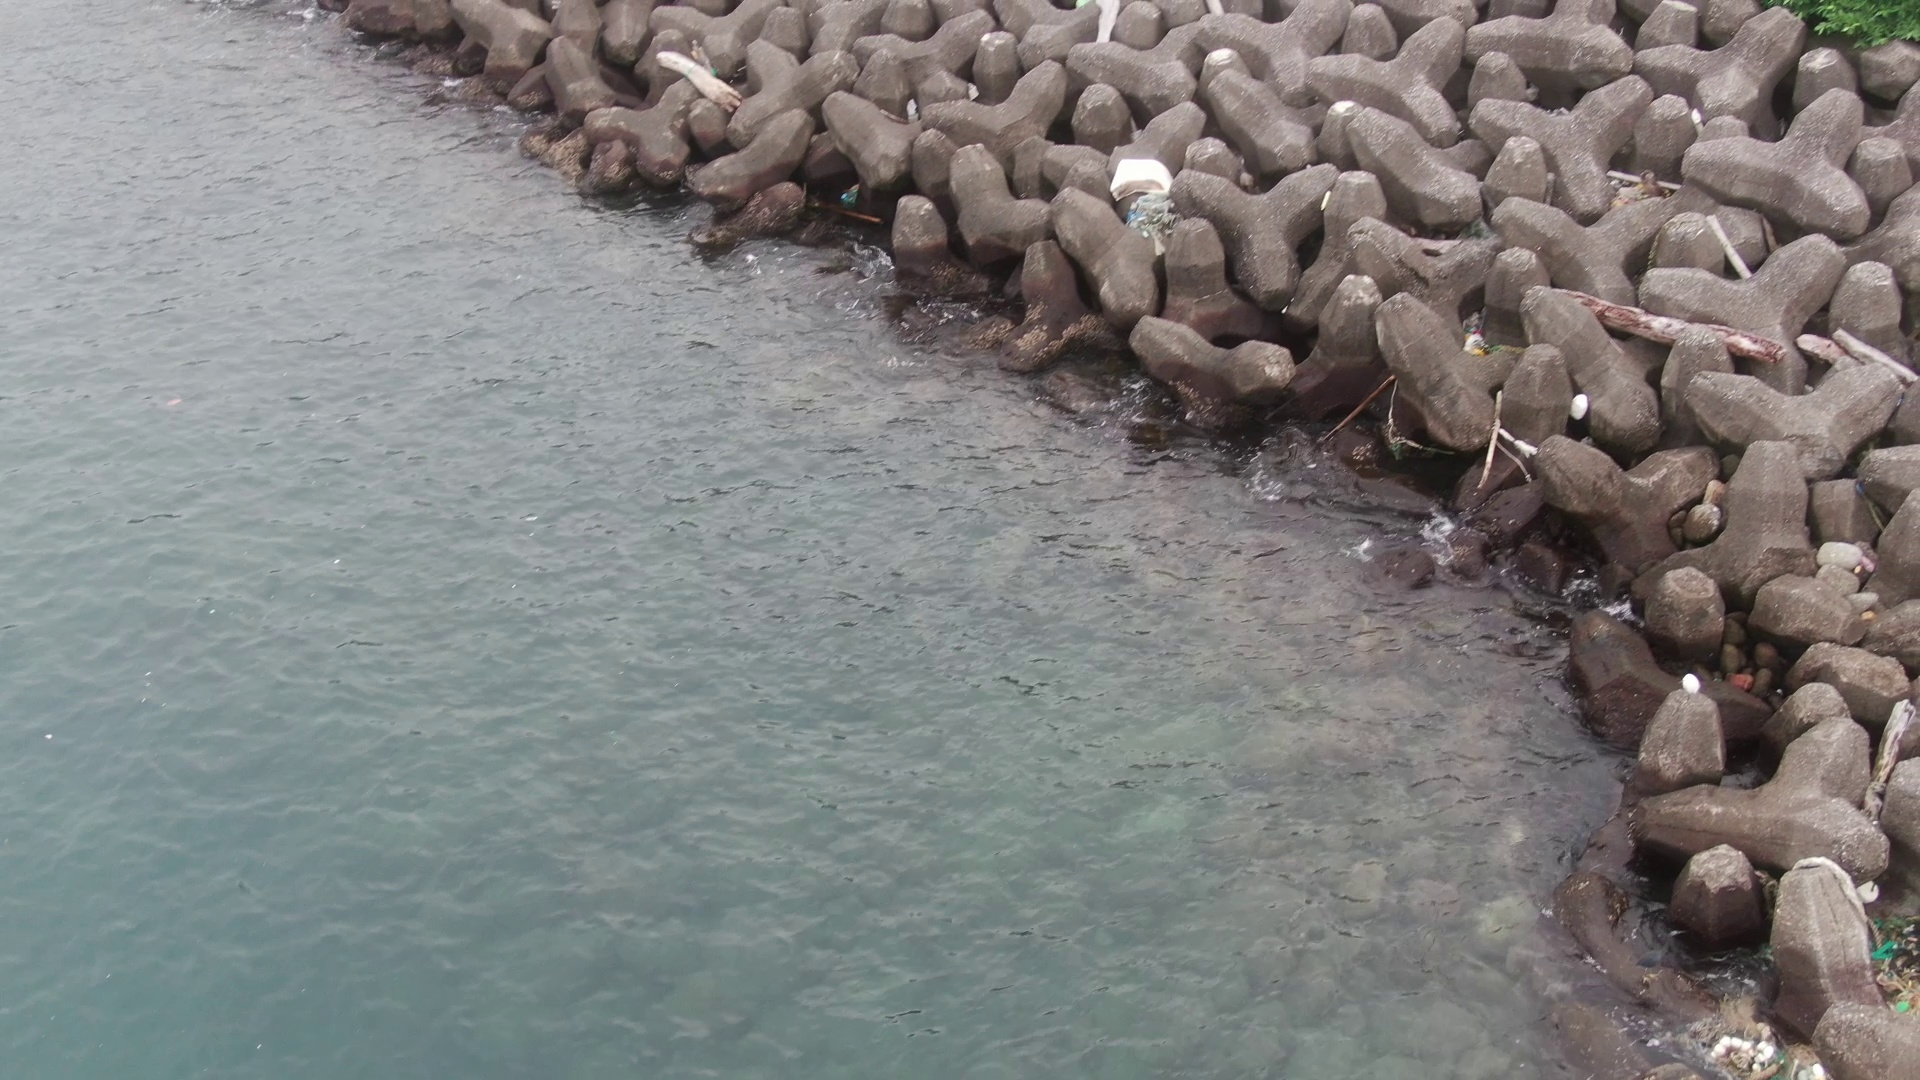garbage: (1847, 877, 1920, 1040), (1687, 997, 1808, 1080), (1105, 152, 1187, 255), (1453, 310, 1491, 356), (1573, 385, 1596, 431), (1677, 667, 1702, 702)
